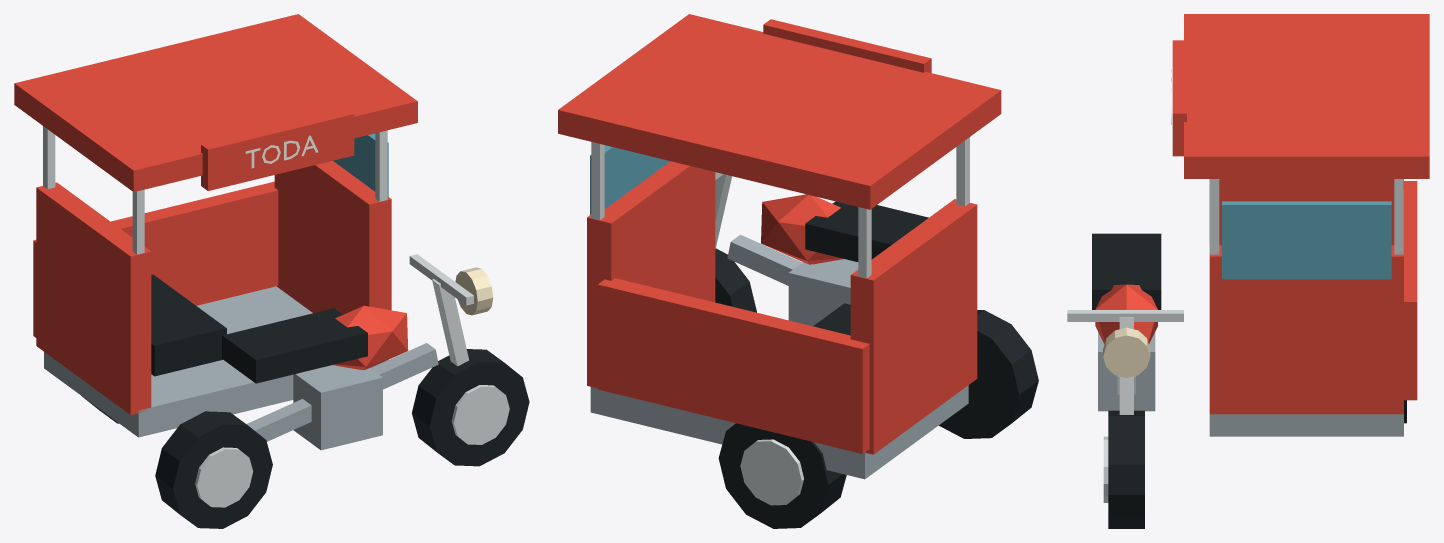
File: TR_Tricycle_red.glb
3 views of the same model, side by side, from view 1: azimuth 30°, elevation 25°; view 2: azimuth 150°, elevation 25°; view 3: azimuth 270°, elevation 25° (orthographic). The views are drawn at different scales.
Parts seen in each view (by area): view 1: TR_Tricycle_red; view 2: TR_Tricycle_red; view 3: TR_Tricycle_red.
Part boxes in pixels (left/top/right/bottom): TR_Tricycle_red: left=14, top=14, right=529, bottom=528; TR_Tricycle_red: left=558, top=14, right=1038, bottom=528; TR_Tricycle_red: left=1067, top=14, right=1429, bottom=528.
Size of the model in its own units: 2.08 by 1.96 by 1.77.
